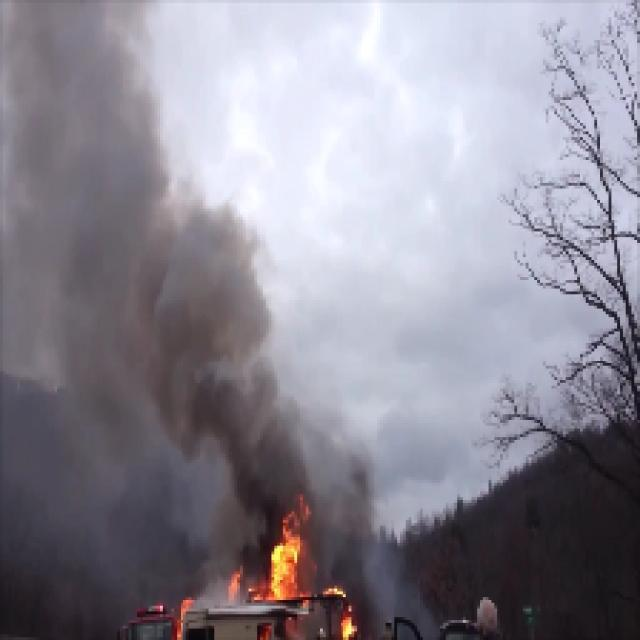Fire: (264, 522, 306, 596)
Smoke: (21, 2, 147, 321), (152, 205, 248, 470), (252, 396, 300, 504)
